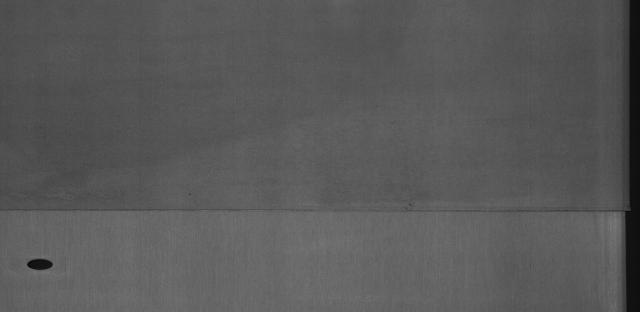punching_hole: (23, 256, 60, 272)
welding_line: (4, 202, 637, 225)
